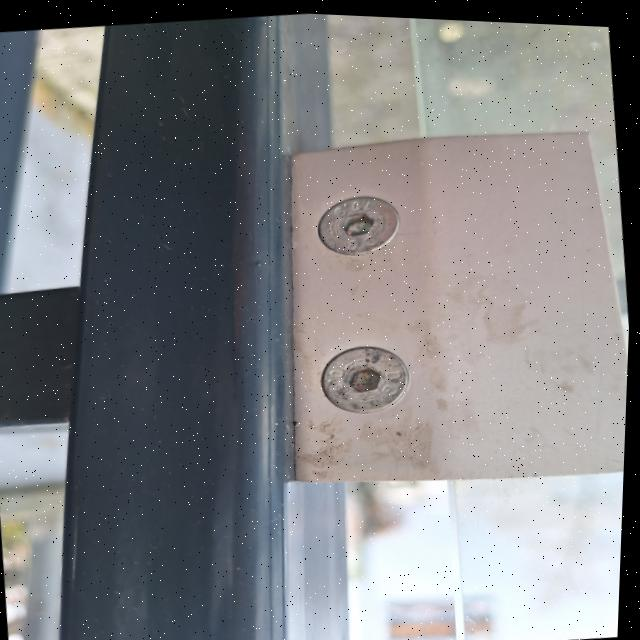Hex Socket Allen: (311, 337, 405, 418), (319, 193, 392, 259)
